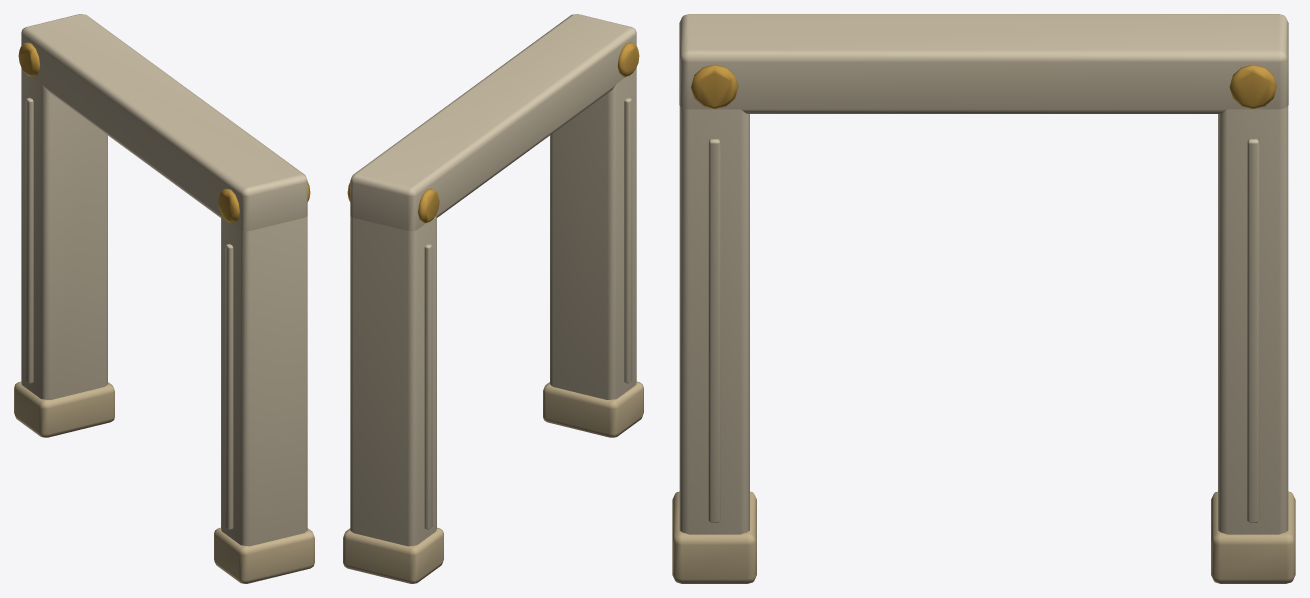
Rendered from SM_Door_Projection_Frame.fbx.
3 renders of one model, left to right at view 1: azimuth 30°, elevation 25°; view 2: azimuth 150°, elevation 25°; view 3: azimuth 270°, elevation 25°, orthographic. The views are drawn at different scales.
Visible parts, largest first — view 1: SM_Door_Projection_Frame; view 2: SM_Door_Projection_Frame; view 3: SM_Door_Projection_Frame.
Boxes of the visible parts, bbox=[...] form: SM_Door_Projection_Frame: bbox=[14, 14, 314, 583]; SM_Door_Projection_Frame: bbox=[343, 14, 643, 583]; SM_Door_Projection_Frame: bbox=[672, 14, 1295, 583].
Bounding box in the file's own units: 52.1 × 250 × 266.
